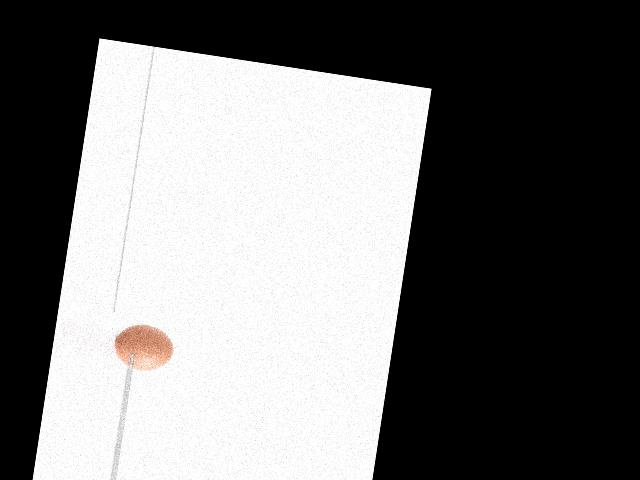egg: (112, 321, 176, 375)
